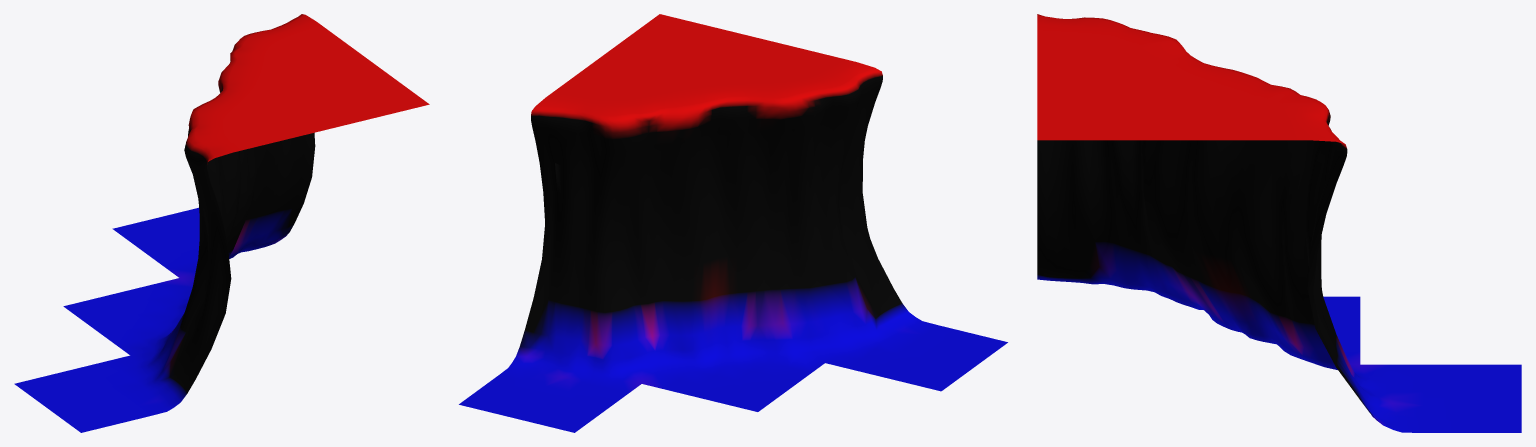
Rendered from GroundCliff03A 2M for Water Foreground.fbx.
The picture shows the model from 3 angles, left to right: view 1: azimuth 30°, elevation 25°; view 2: azimuth 150°, elevation 25°; view 3: azimuth 270°, elevation 25°; orthographic projection. The views are drawn at different scales.
Visible parts, largest first — view 1: GroundCliff03A 2M for Water Foreground; view 2: GroundCliff03A 2M for Water Foreground; view 3: GroundCliff03A 2M for Water Foreground.
Boxes of the visible parts, x1,y1,x2,y2 form: GroundCliff03A 2M for Water Foreground: (14, 14, 429, 432); GroundCliff03A 2M for Water Foreground: (459, 14, 1007, 432); GroundCliff03A 2M for Water Foreground: (1037, 14, 1521, 432).
Bounding box in the file's own units: 3 × 2 × 3.
